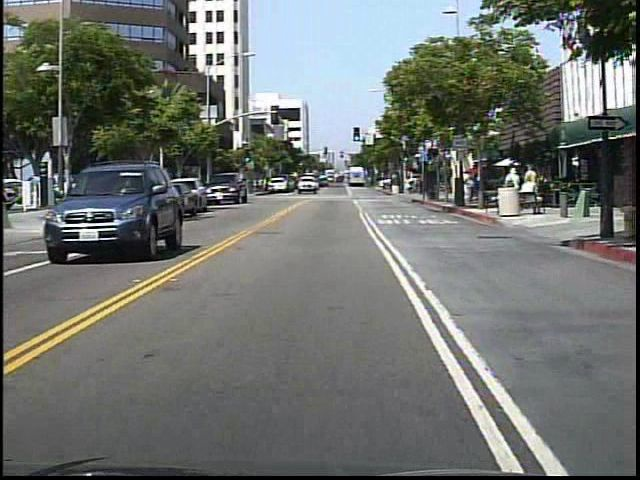person: (463, 172, 478, 206), (258, 173, 271, 199)
